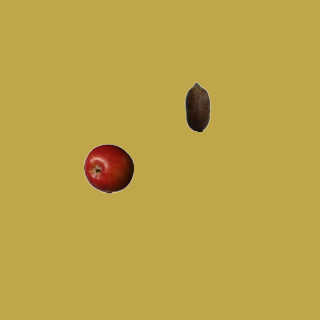Apple Braeburn: (83, 143, 133, 193)
Nut Pecan: (172, 81, 222, 131)
